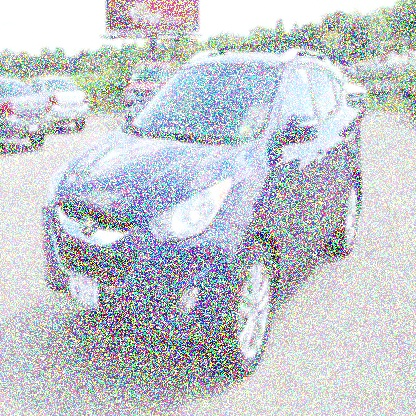Vehicle: (43, 44, 364, 374)
